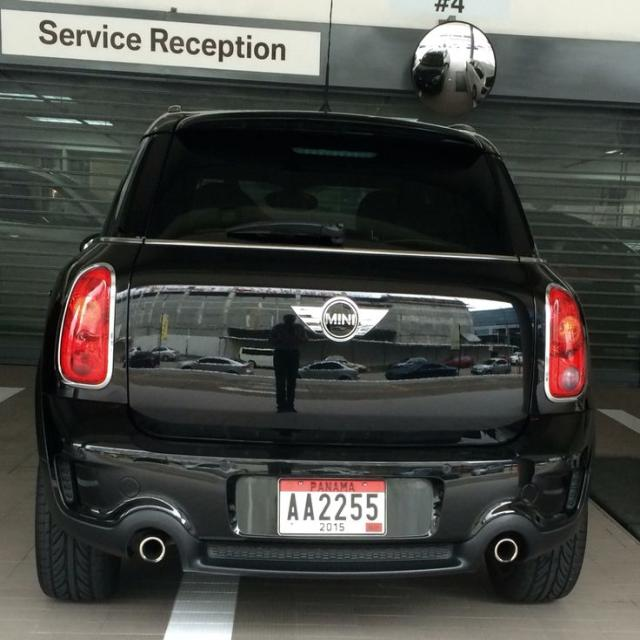Placas: (274, 474, 391, 542)
